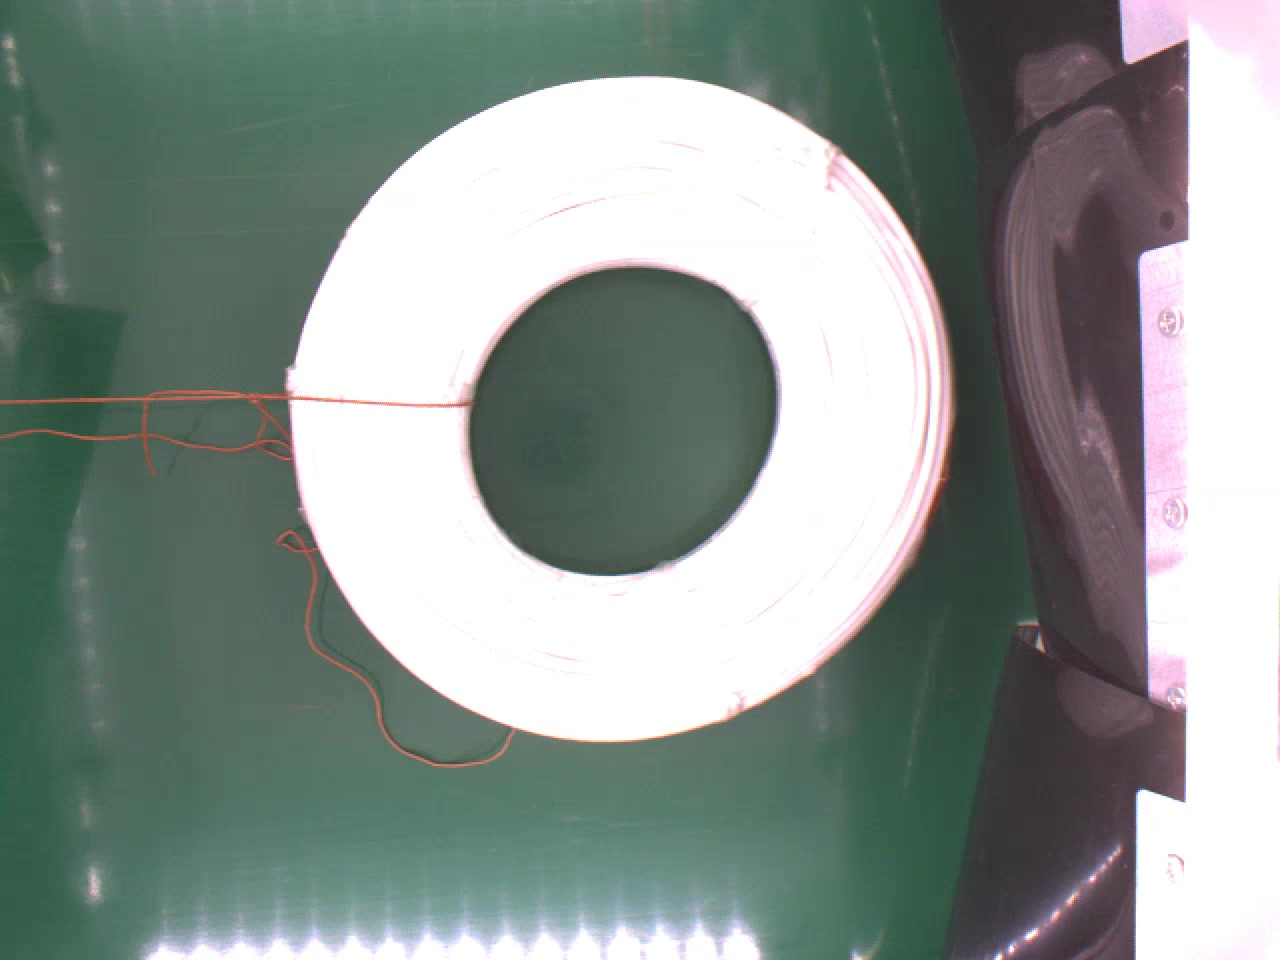white: (284, 72, 953, 743)
